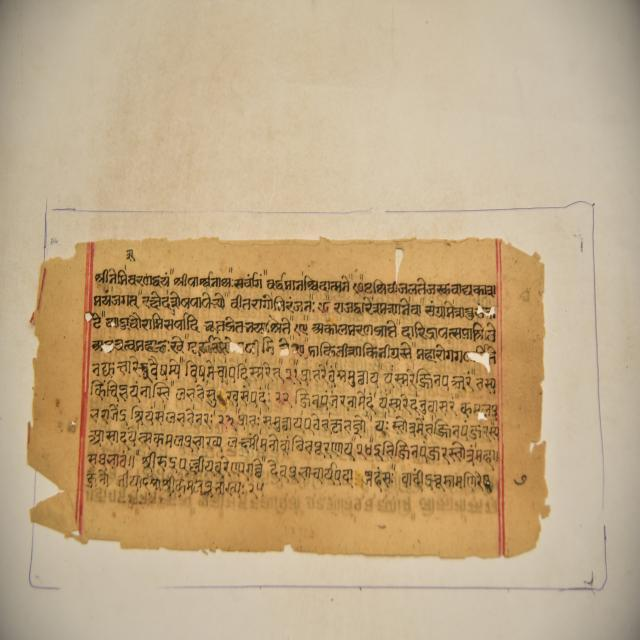text_paragraph: (39, 243, 540, 550)
